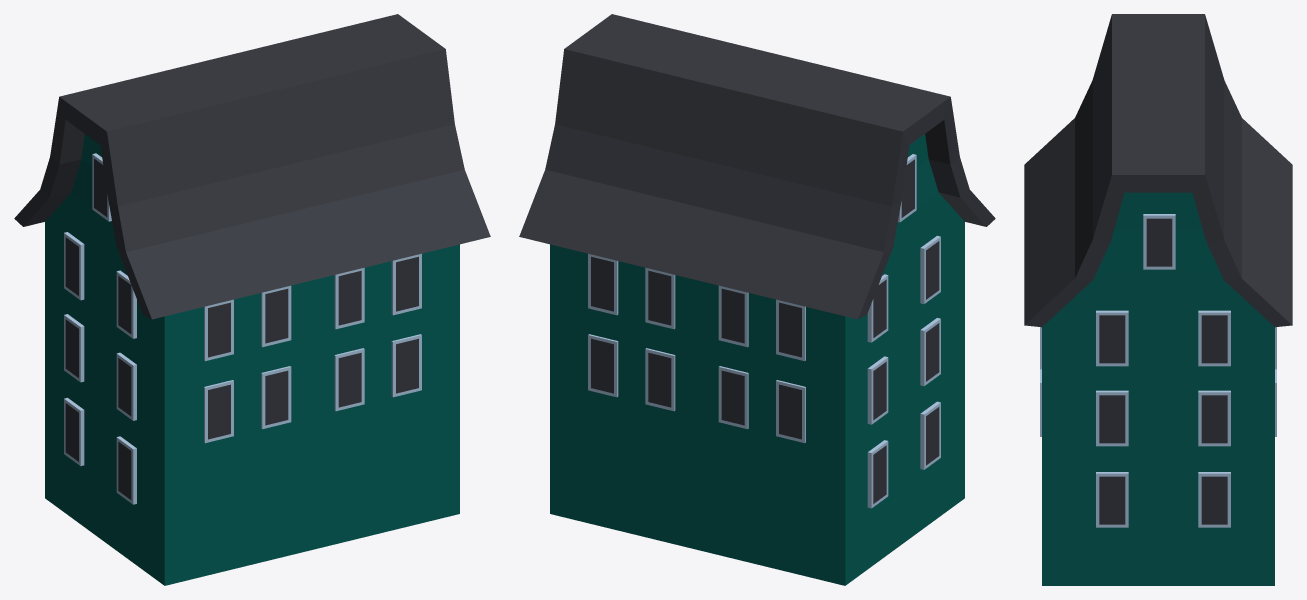
The model's file is Green_House.fbx.
3 views of the same model, side by side, from view 1: azimuth 30°, elevation 25°; view 2: azimuth 150°, elevation 25°; view 3: azimuth 270°, elevation 25° (orthographic). The views are drawn at different scales.
Parts seen in each view (by area): view 1: House_Green; view 2: House_Green; view 3: House_Green.
Boxes of the visible parts, box(x1,y1,x2,y2) form: House_Green: box(14, 14, 490, 585); House_Green: box(519, 14, 995, 585); House_Green: box(1024, 14, 1292, 585).
Size of the model in its own units: 974 by 1190 by 686.
